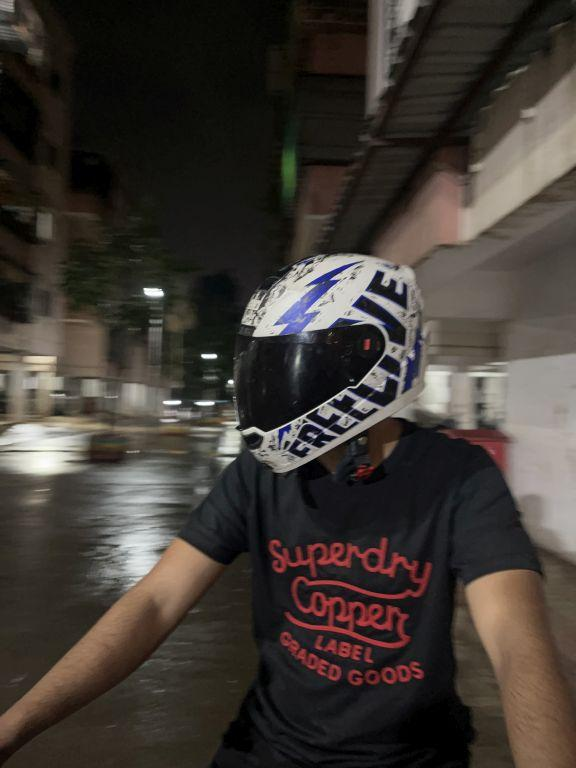helmet: (212, 240, 436, 483)
